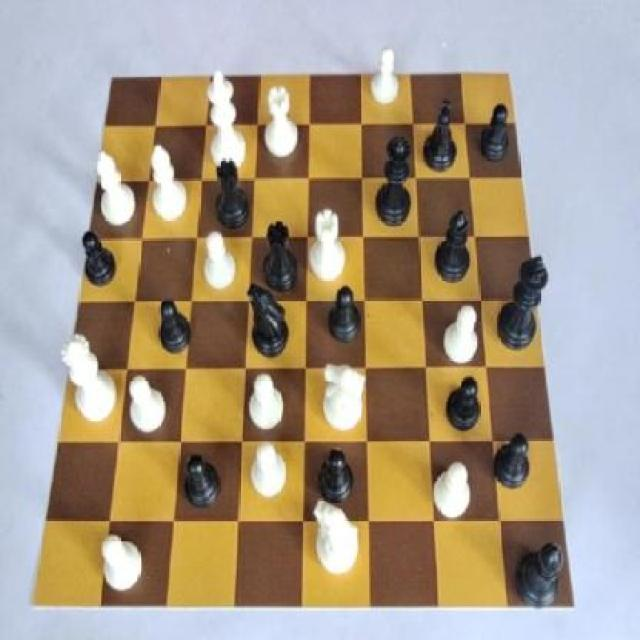bishop: (509, 525, 570, 616), (431, 194, 475, 289)
black-bishop: (491, 244, 553, 360)
black-king: (243, 277, 293, 361), (422, 94, 462, 178)
black-knight: (144, 292, 200, 360), (489, 421, 538, 497), (311, 432, 358, 511), (176, 443, 224, 515), (325, 277, 373, 349), (76, 225, 124, 292), (474, 94, 517, 168), (442, 368, 486, 439)
black-pawn: (374, 128, 417, 242)
black-queen: (203, 146, 257, 231), (260, 215, 305, 301)
black-rook: (88, 144, 140, 228), (145, 137, 193, 228)
white-bishop: (201, 68, 257, 177)
white-king: (308, 494, 364, 580), (318, 355, 371, 437)
white-knight: (425, 450, 479, 524), (94, 526, 146, 599), (438, 300, 492, 369), (243, 429, 292, 502), (124, 369, 170, 443), (198, 225, 240, 296), (364, 44, 406, 114), (245, 368, 287, 435)
white-pawn: (57, 328, 122, 428)
white-queen: (258, 81, 304, 164), (307, 202, 348, 288)
